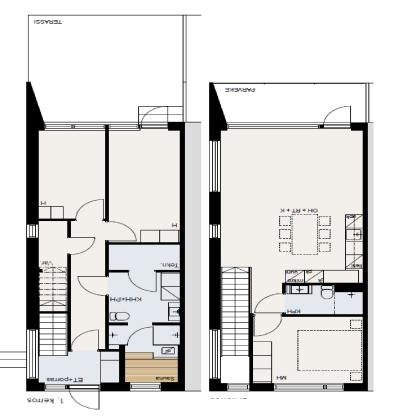door: (253, 289, 285, 341), (323, 103, 357, 133), (70, 385, 104, 412), (72, 196, 106, 221), (138, 106, 171, 129), (71, 328, 102, 352), (105, 220, 140, 241), (130, 270, 158, 294), (78, 274, 106, 296), (66, 235, 96, 253)
window: (228, 124, 318, 131), (210, 139, 221, 192), (27, 331, 38, 379), (273, 383, 345, 390), (210, 331, 221, 376), (43, 122, 104, 130), (108, 123, 138, 132), (131, 384, 162, 392), (26, 225, 39, 239), (46, 384, 67, 390), (227, 384, 248, 390), (211, 223, 218, 238)
zone: (220, 130, 364, 382), (40, 242, 180, 383), (28, 14, 183, 121), (38, 130, 178, 242), (210, 80, 366, 122)
